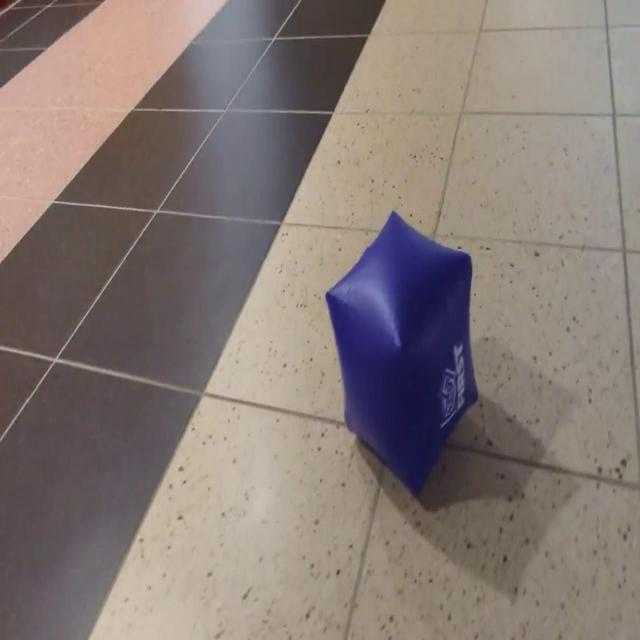frc_cube: (330, 202, 479, 502)
